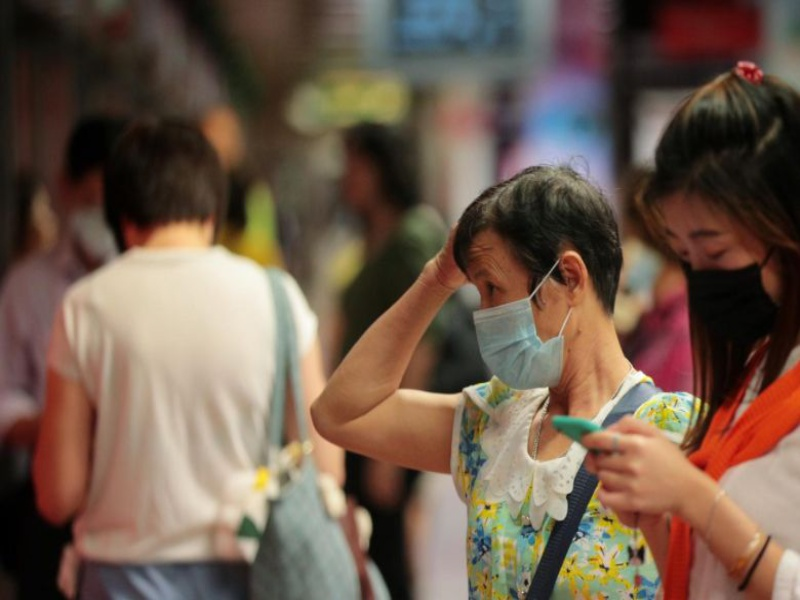ManaoArotava: (630, 134, 789, 351), (448, 200, 575, 413)
